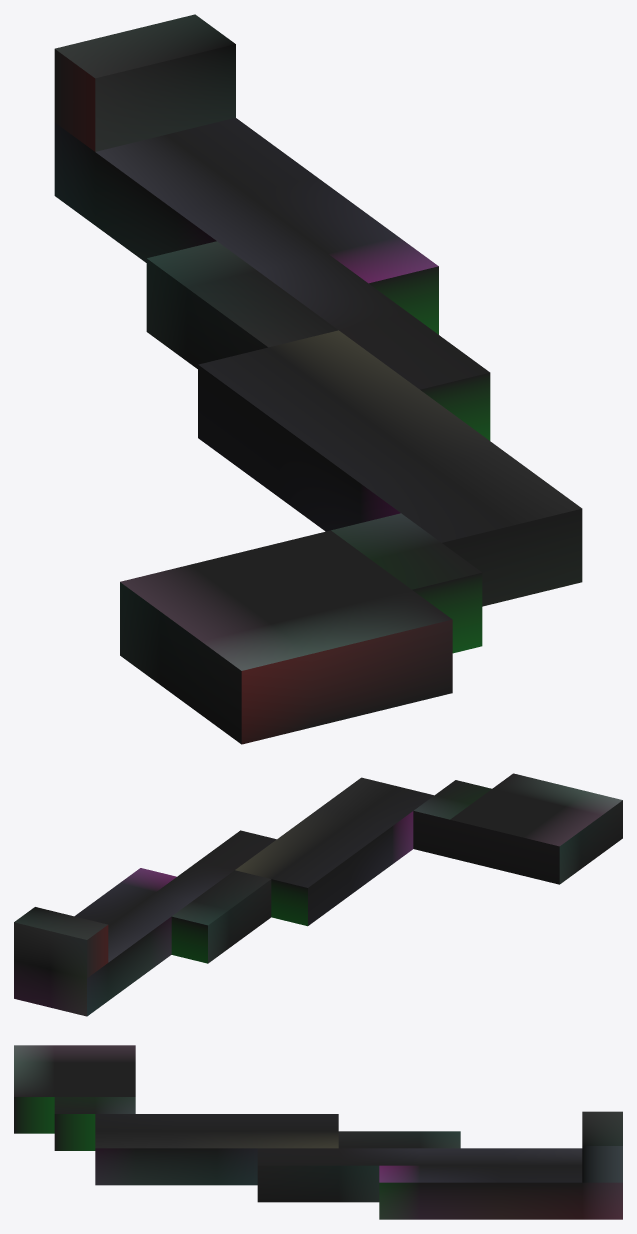
The model's file is Cable_B_00.fbx.
The picture shows the model from 3 angles, top to bottom: view 1: azimuth 30°, elevation 25°; view 2: azimuth 150°, elevation 25°; view 3: azimuth 270°, elevation 25°; orthographic projection. The views are drawn at different scales.
Visible parts, largest first — view 1: Cable_B_00; view 2: Cable_B_00; view 3: Cable_B_00.
Part boxes in pixels (x1,y1,x2,y2): Cable_B_00: (54, 14, 582, 744); Cable_B_00: (14, 773, 622, 1016); Cable_B_00: (14, 1045, 622, 1219).
Size of the model in its own units: 40 by 10 by 75.
